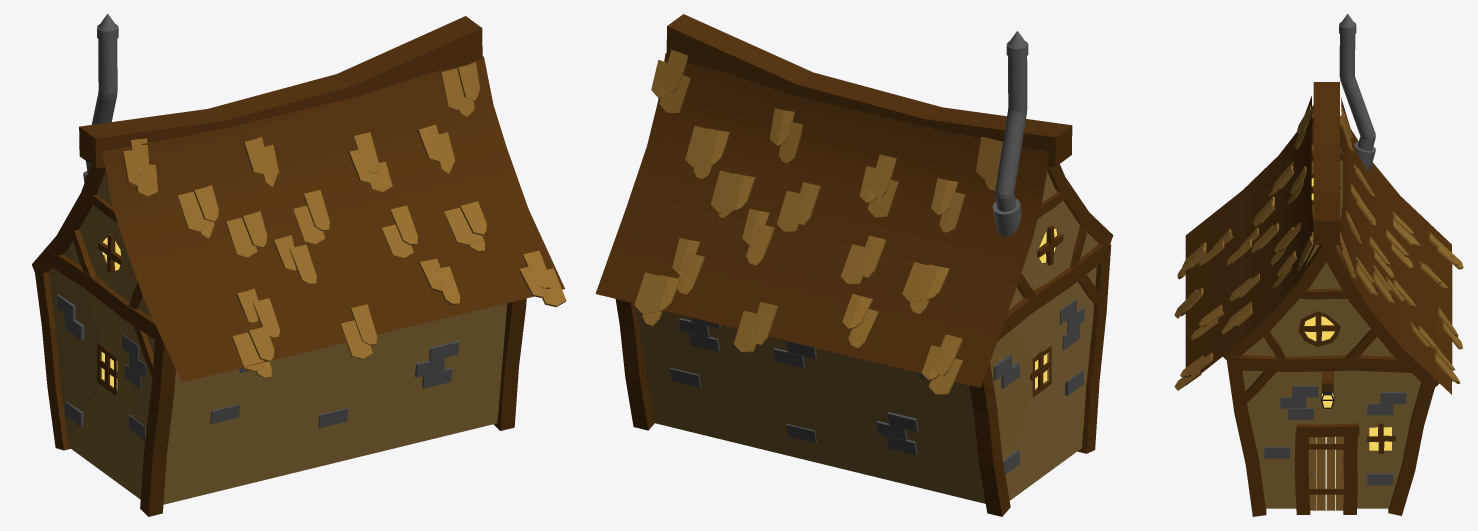
File: cottage.glb
3 renders of one model, left to right at view 1: azimuth 30°, elevation 25°; view 2: azimuth 150°, elevation 25°; view 3: azimuth 270°, elevation 25°, orthographic. The views are drawn at different scales.
Visible parts, largest first — view 1: Plane.003, Plane.005, Plane.001, Cube.024, Cube.013, Cube.012, Cube.001, Cube.014, Circle, Cube.015, Cube.142, Cube.118 (+17 smaller); view 2: Plane.002, Plane.004, Plane.001, Cube.024, Circle, Cube.012, Cube, Cube.013, Cube.014, Cube.016, Cube.072, Cube.086 (+21 smaller); view 3: Plane, Plane.003, Plane.002, Cube.024, Cube.002, Circle, Cube.001, Cube, Cube.003, Cube.004, Cube.010, Cube.009 (+15 smaller).
Boxes of the visible parts, x1=… form: Plane.003: x1=102, y1=56, x2=564, y2=382; Plane.005: x1=163, y1=303, x2=507, y2=504; Plane.001: x1=48, y1=172, x2=154, y2=499; Cube.024: x1=79, y1=16, x2=482, y2=168; Cube.013: x1=140, y1=340, x2=175, y2=516; Cube.012: x1=34, y1=264, x2=70, y2=450; Cube.001: x1=494, y1=298, x2=526, y2=430; Cube.014: x1=46, y1=248, x2=163, y2=344; Circle: x1=83, y1=14, x2=118, y2=182; Cube.015: x1=32, y1=165, x2=104, y2=272; Cube.142: x1=441, y1=68, x2=468, y2=109; Cube.118: x1=225, y1=217, x2=257, y2=257; Plane.002: x1=595, y1=53, x2=1049, y2=387; Plane.004: x1=636, y1=307, x2=985, y2=503; Plane.001: x1=990, y1=172, x2=1098, y2=500; Cube.024: x1=666, y1=14, x2=1072, y2=166; Circle: x1=992, y1=31, x2=1028, y2=236; Cube.012: x1=969, y1=363, x2=1010, y2=516; Cube: x1=615, y1=299, x2=654, y2=430; Cube.013: x1=1077, y1=244, x2=1111, y2=453; Cube.014: x1=997, y1=239, x2=1110, y2=341; Cube.016: x1=1047, y1=164, x2=1113, y2=244; Cube.072: x1=793, y1=182, x2=820, y2=225; Cube.086: x1=750, y1=302, x2=777, y2=345; Plane: x1=1242, y1=262, x2=1421, y2=508; Plane.003: x1=1185, y1=96, x2=1314, y2=385; Plane.002: x1=1338, y1=97, x2=1452, y2=394; Cube.024: x1=1313, y1=82, x2=1339, y2=244; Cube.002: x1=1229, y1=355, x2=1416, y2=373; Circle: x1=1339, y1=14, x2=1375, y2=170; Cube.001: x1=1227, y1=361, x2=1266, y2=516; Cube: x1=1388, y1=378, x2=1436, y2=515; Cube.003: x1=1323, y1=247, x2=1439, y2=387; Cube.004: x1=1223, y1=245, x2=1336, y2=361; Cube.010: x1=1343, y1=435, x2=1357, y2=514; Cube.009: x1=1294, y1=432, x2=1310, y2=514.
Size of the model in its own units: 4.62 by 4.9 by 3.51.
